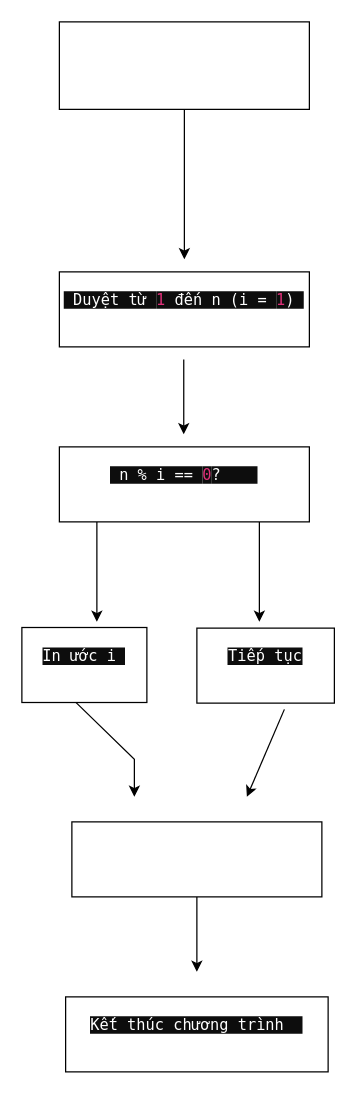
Image size: 356x1094. Some labels were removed from this diagram. Here are the shapes that lost their labels. From the top down, the centre of each, then its label:
At point (183, 65): "Nhập số nguyên dương n".
At point (196, 859): "i = i + 1".
